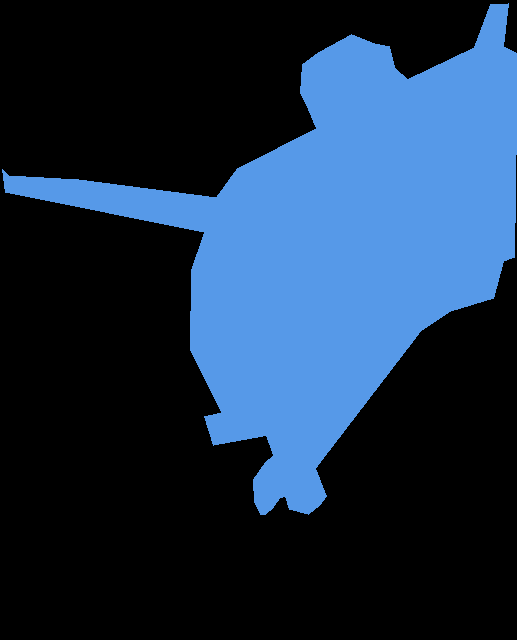Airplane: (2, 3, 517, 514)
